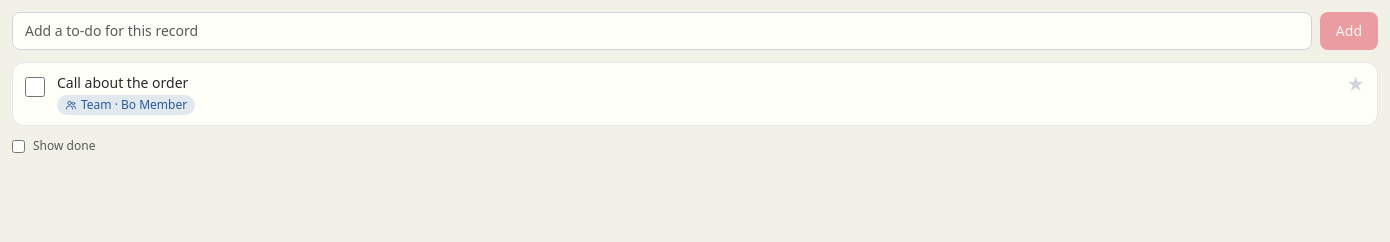
it: the To-dos panel on a record › lists the record's open todos, and the done ones on request
expect the text "Call about the order" is shown: met, box [57,73,188,92]
expect the text "Team · Bo Member" is shown: met, box [57,95,195,115]
Click the checkbox labelled "Show done" at (18,146), box [12,140,25,152]
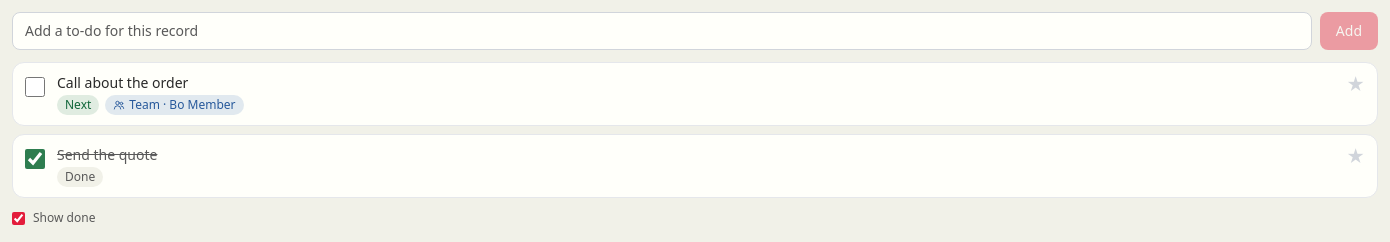
expect the text "Send the quote" is shown: met, box [57,145,157,164]
